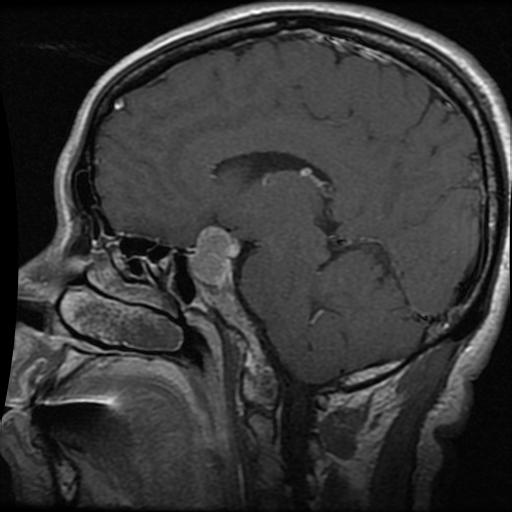Pituirity_tumour: (189, 224, 240, 286)
